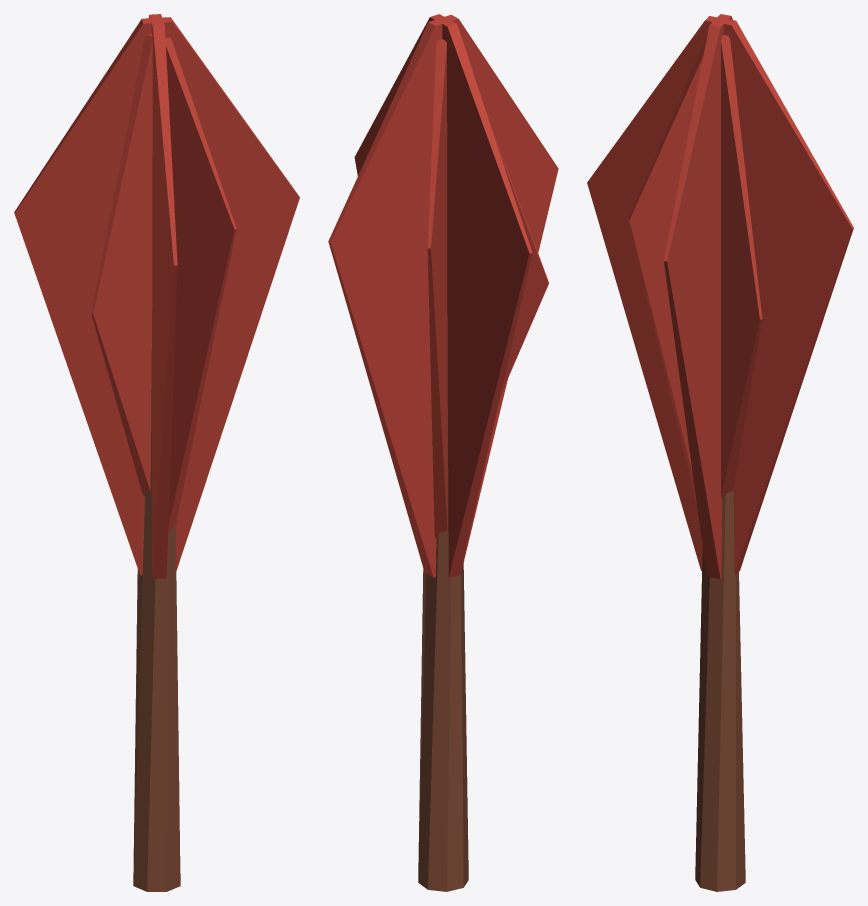
The model's file is Tree_31_summer_red_mat.fbx.
3 renders of one model, left to right at view 1: azimuth 30°, elevation 25°; view 2: azimuth 150°, elevation 25°; view 3: azimuth 270°, elevation 25°, orthographic.
Visible parts, largest first — view 1: Tree_31_summer_red_mat; view 2: Tree_31_summer_red_mat; view 3: Tree_31_summer_red_mat.
Boxes of the visible parts, x1,y1,x2,y2 form: Tree_31_summer_red_mat: [14, 14, 299, 891]; Tree_31_summer_red_mat: [328, 14, 558, 891]; Tree_31_summer_red_mat: [587, 14, 853, 891].
Size of the model in its own units: 84.61 by 301 by 84.61.
